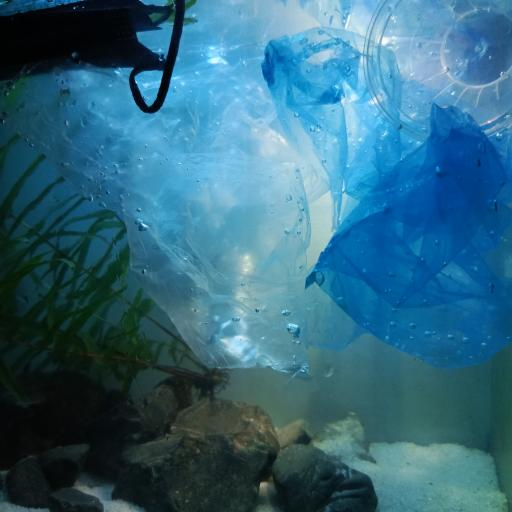mask: (2, 0, 193, 118)
plastic_bag: (14, 0, 330, 369), (256, 0, 510, 369)
plastic_cup: (363, 2, 512, 144)
